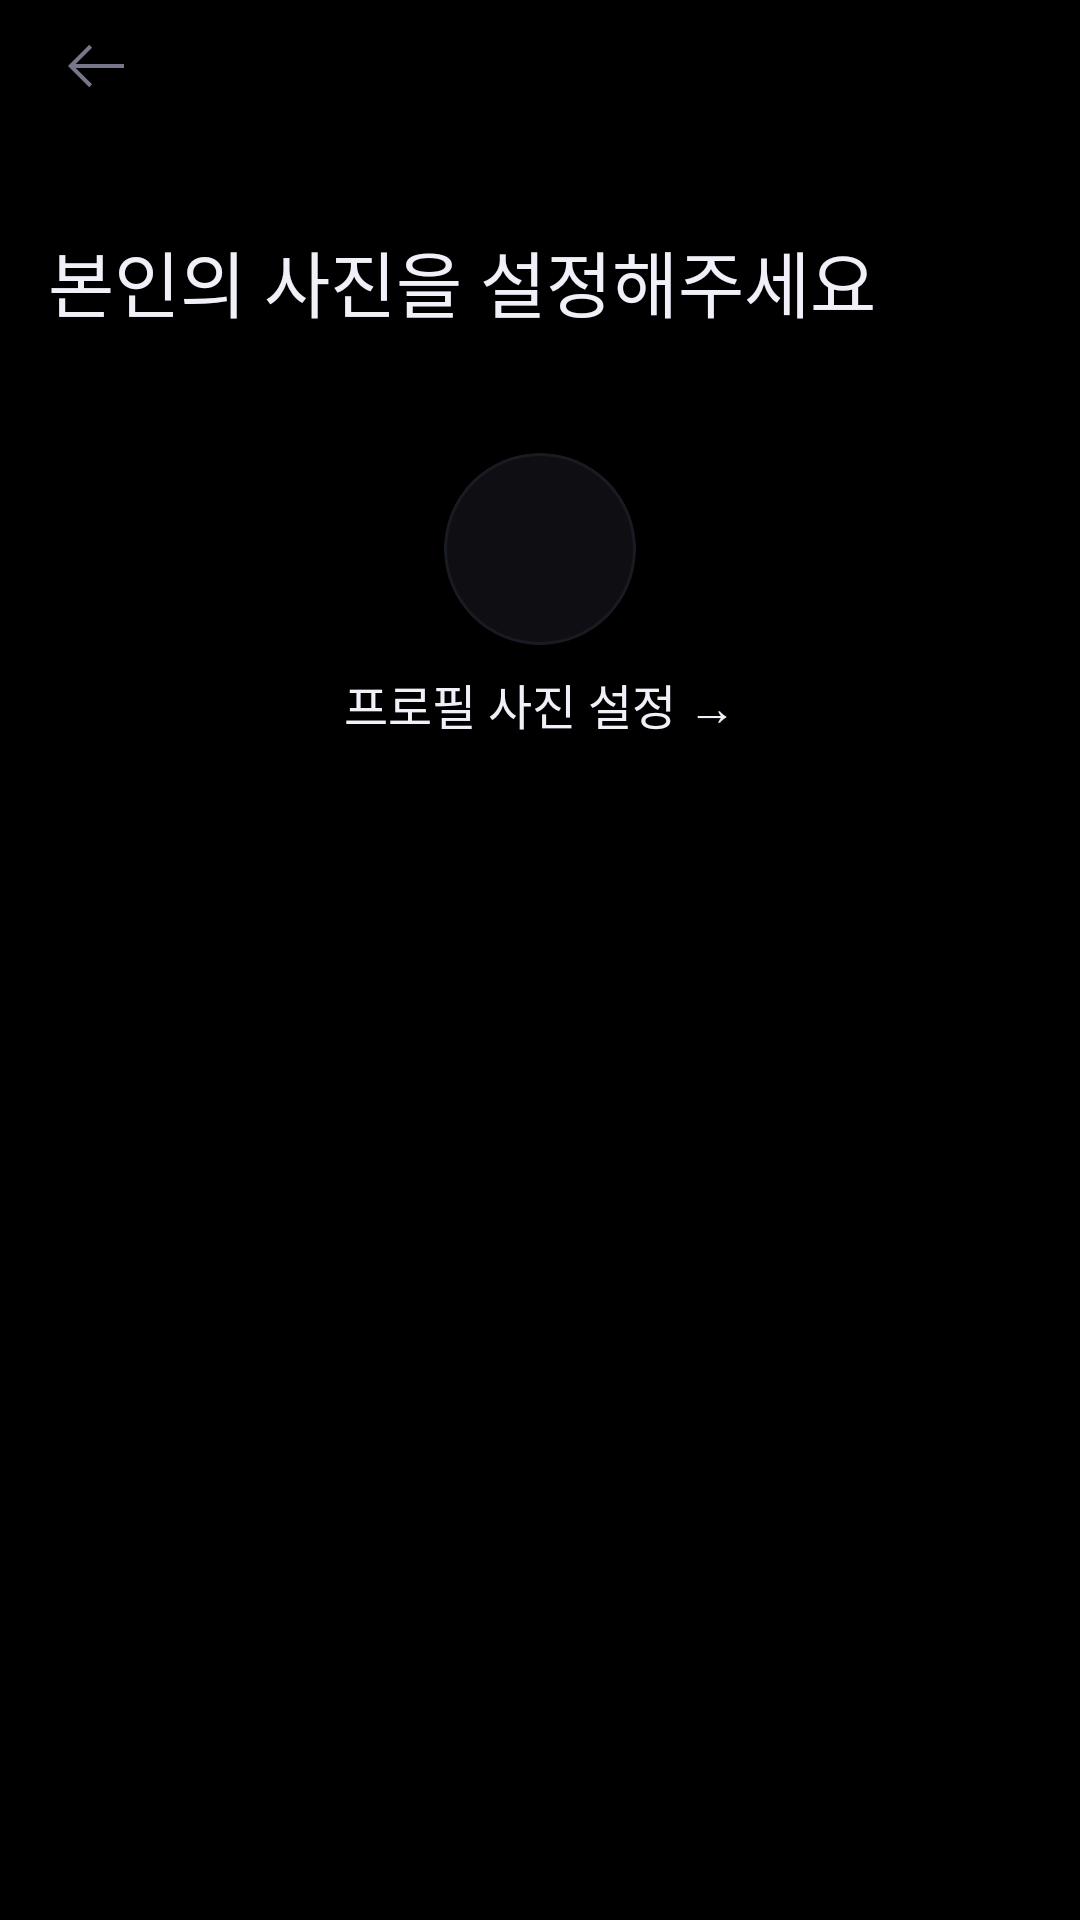

Named icons in this screenshot (1080px×1920px) and their bounding boxes, (left=x1, top=y1, right=x2, bottom=y2):
back: (left=68, top=45, right=124, bottom=87)
